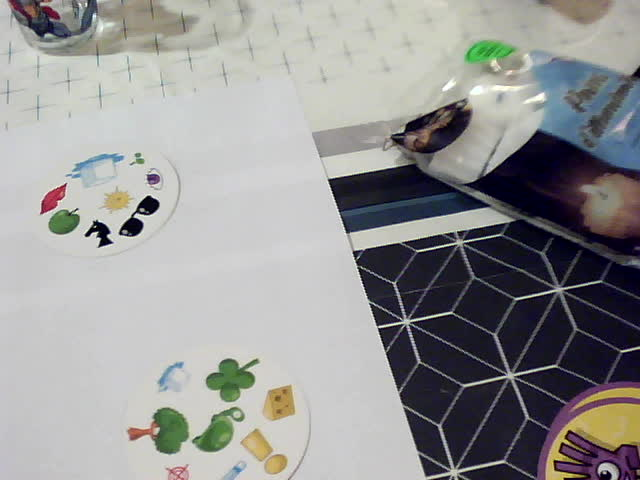arbre: (125, 403, 192, 458)
bouche: (38, 182, 70, 216)
cheval: (82, 217, 117, 252)
cible: (162, 462, 192, 480)
crayon: (215, 458, 248, 480)
fromage: (257, 379, 301, 424)
glacon: (65, 150, 128, 188), (152, 355, 198, 397)
lunette: (117, 193, 162, 239)
oeuil: (141, 165, 168, 194)
point_exclamation: (235, 427, 290, 478)
pomme: (46, 207, 82, 235)
soleil: (99, 186, 136, 216)
tache: (129, 147, 148, 169)
tortue: (190, 402, 246, 456)
trefle: (204, 353, 263, 405)
